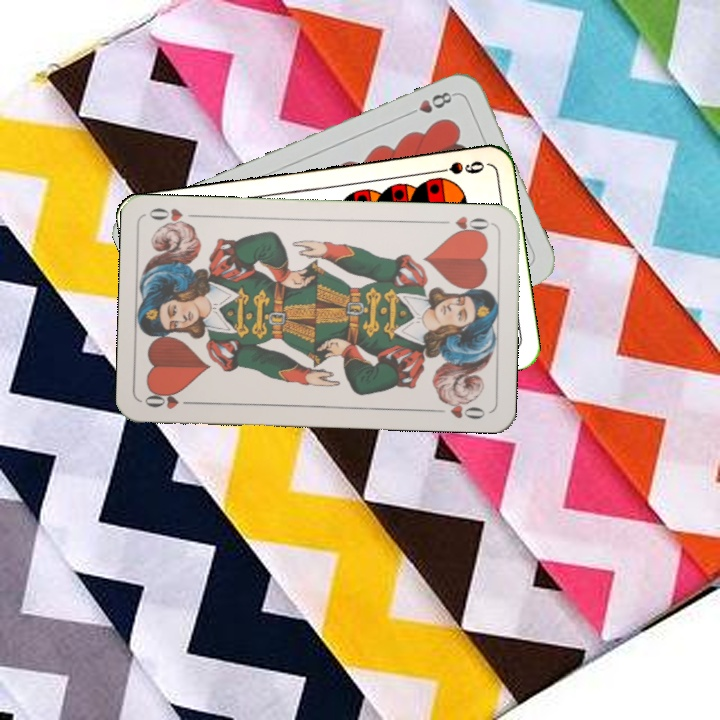H8: (402, 87, 459, 119)
HO: (436, 212, 495, 238), (140, 388, 199, 411)
S9: (428, 157, 487, 177)
